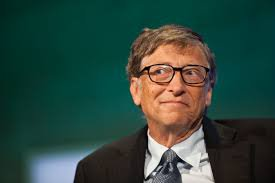noMask: (120, 24, 223, 125)
